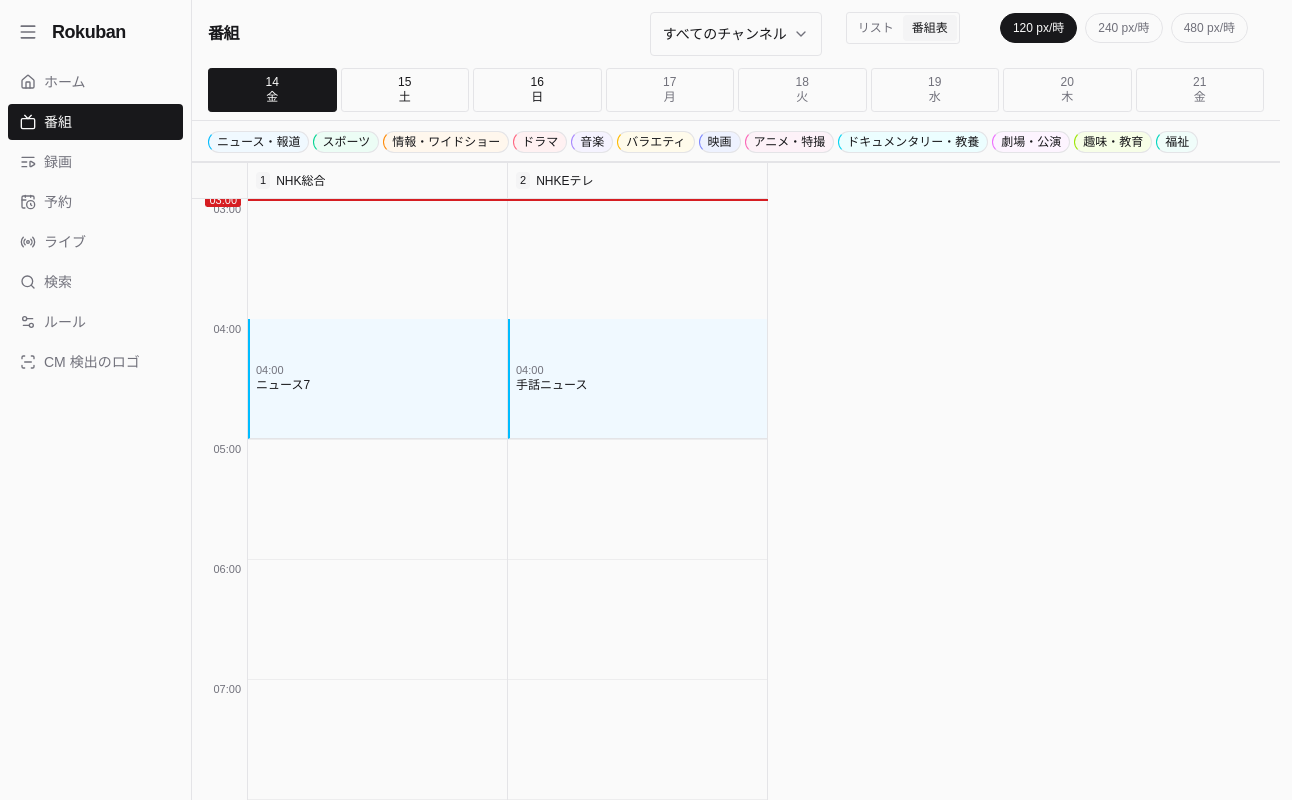
ProgramsPage の表示形式 › リストを選んだ後にナビの /programs へ戻っても保存値どおりリストのまま
Click the button "リスト" at (876,28), box [849,15,903,41]
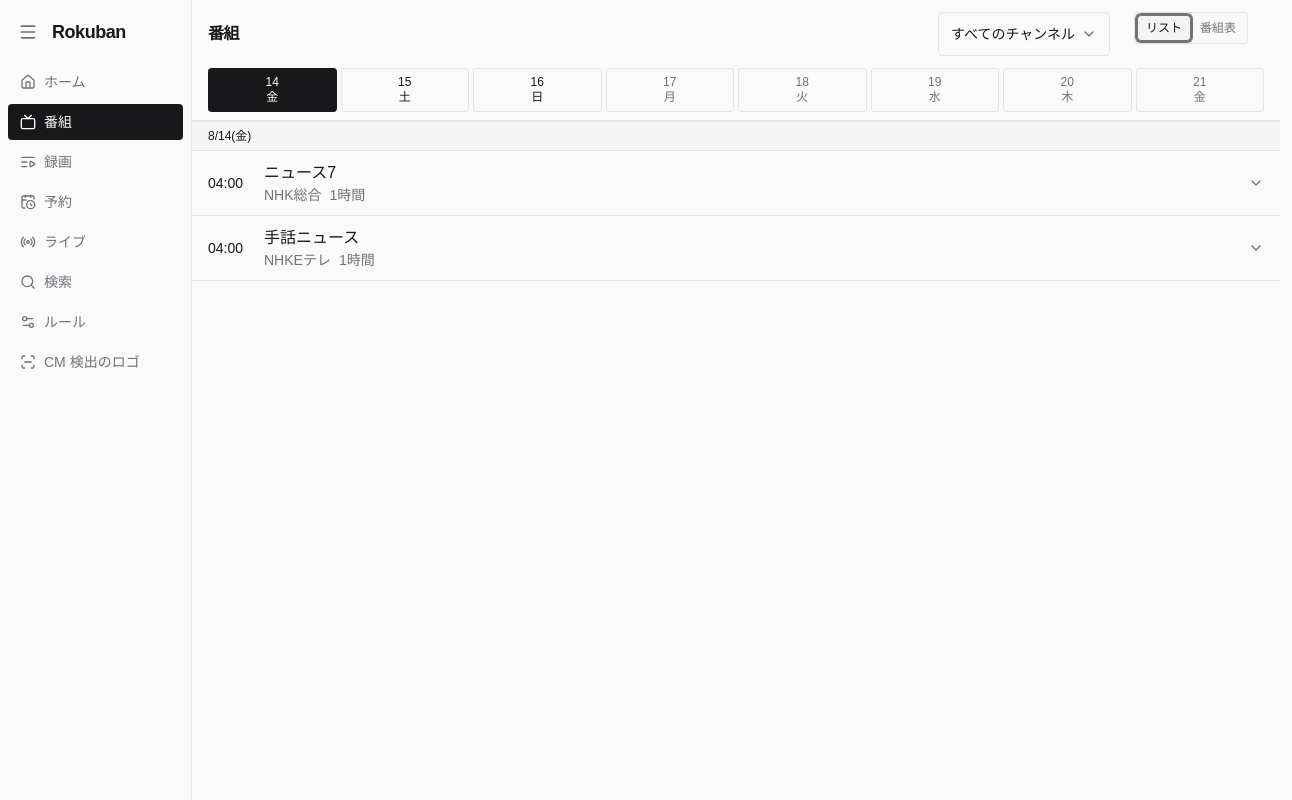
Result: the element with test id "program-grid" is gone
